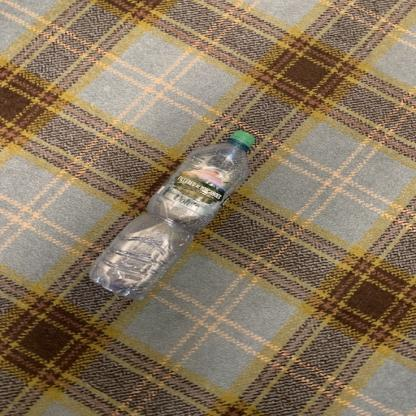trash: (87, 129, 253, 303)
